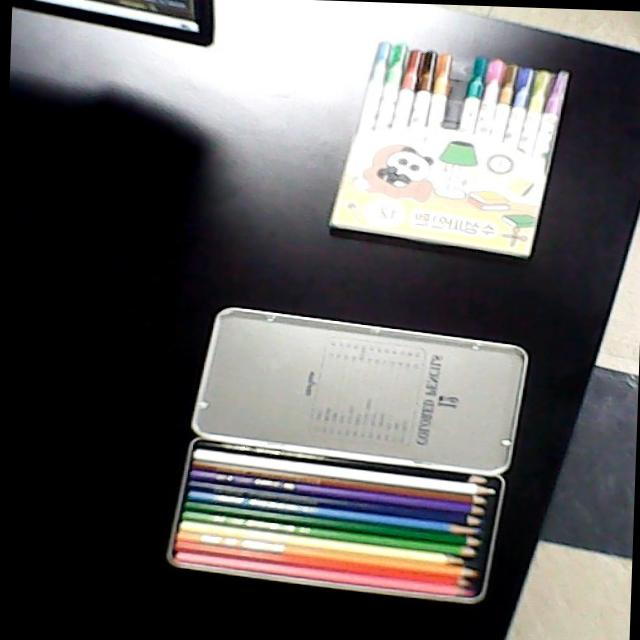color: (157, 431, 514, 611)
signpen: (320, 33, 575, 262)
